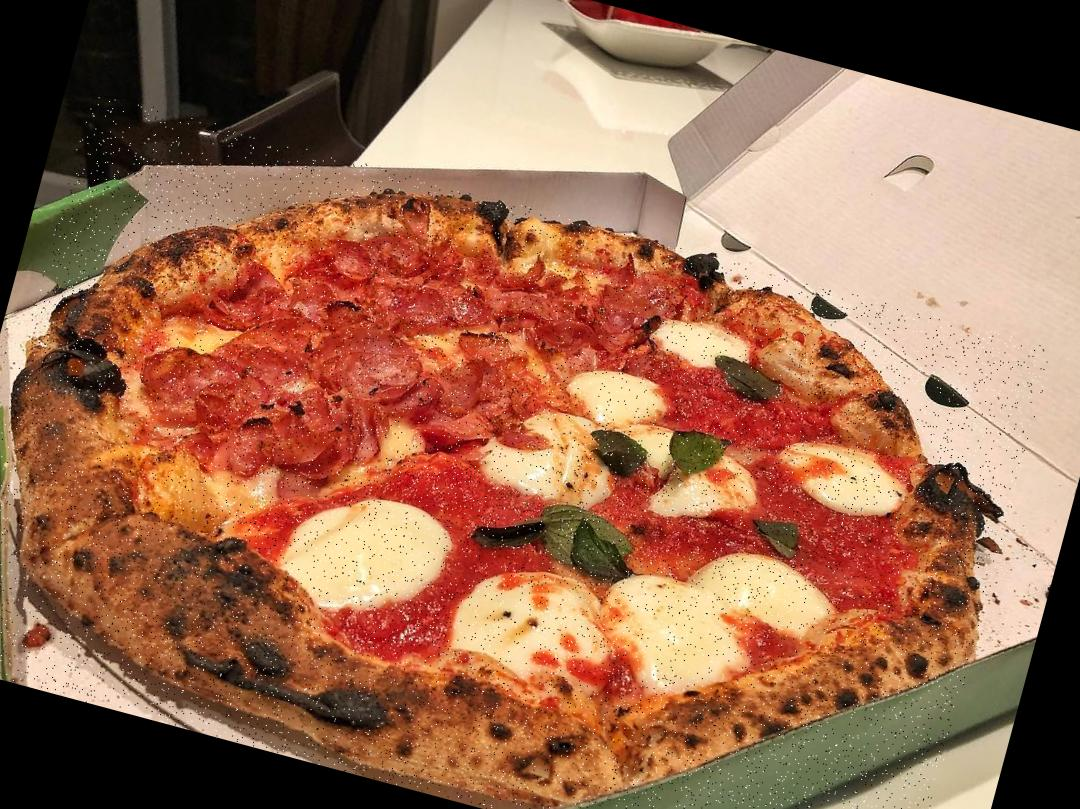Basil: (532, 502, 646, 586), (706, 352, 786, 411), (744, 505, 810, 563), (586, 422, 650, 478), (672, 421, 731, 477)
Cheese: (271, 469, 456, 624), (456, 552, 619, 685), (598, 561, 738, 696), (689, 537, 844, 641), (488, 392, 628, 507), (619, 422, 764, 527), (771, 424, 915, 522), (648, 316, 752, 380), (573, 365, 674, 428)
Ham: (132, 314, 400, 482), (229, 256, 523, 402), (375, 228, 612, 350), (424, 346, 534, 454)
Pizza: (0, 89, 1054, 809)
